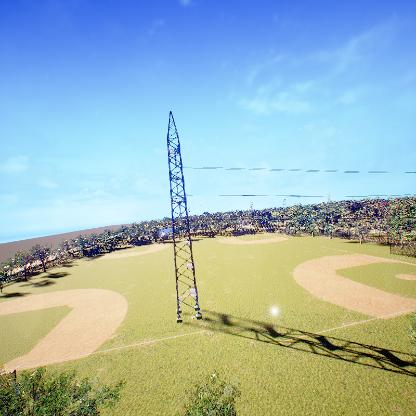tower: (165, 111, 203, 322)
